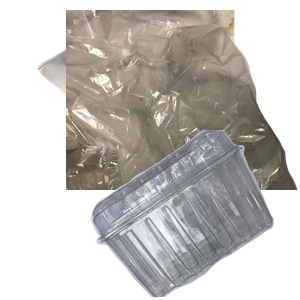glass: (37, 120, 231, 300)
paper: (35, 10, 237, 178)
plastic: (88, 130, 300, 300)
trash: (66, 10, 300, 190)
